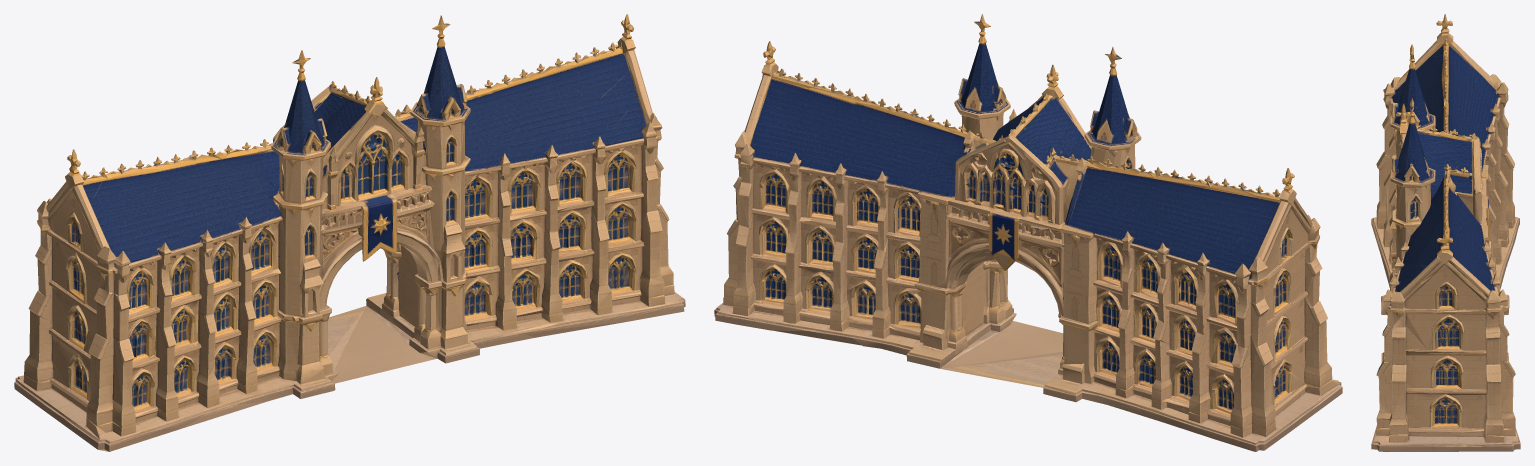
The model's file is great-hall.glb.
The picture shows the model from 3 angles, left to right: view 1: azimuth 30°, elevation 25°; view 2: azimuth 150°, elevation 25°; view 3: azimuth 270°, elevation 25°; orthographic projection. The views are drawn at different scales.
Visible parts, largest first — view 1: Mesh_0; view 2: Mesh_0; view 3: Mesh_0.
Boxes of the visible parts, bbox=[...] form: Mesh_0: bbox=[14, 14, 685, 451]; Mesh_0: bbox=[714, 14, 1342, 451]; Mesh_0: bbox=[1371, 14, 1520, 451].
Bounding box in the file's own units: 1.9 × 1.02 × 0.5208.
Materials: 1 (1 with a texture image).
